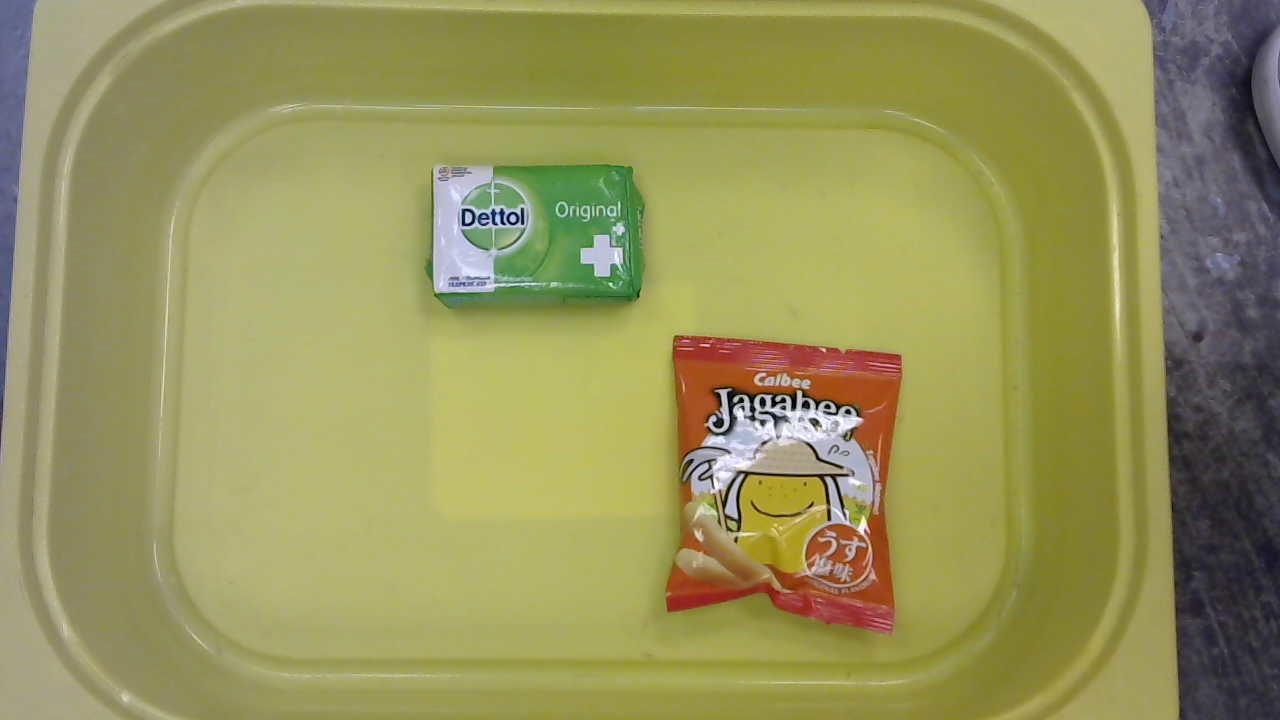Dettol: (421, 159, 649, 308)
JagabeeFarmer: (661, 333, 905, 638)
